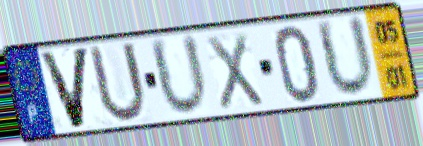0: (273, 22, 322, 106)
U: (312, 12, 378, 101), (146, 31, 212, 120), (85, 40, 149, 127)
V: (36, 44, 93, 132)
X: (203, 30, 267, 113)
